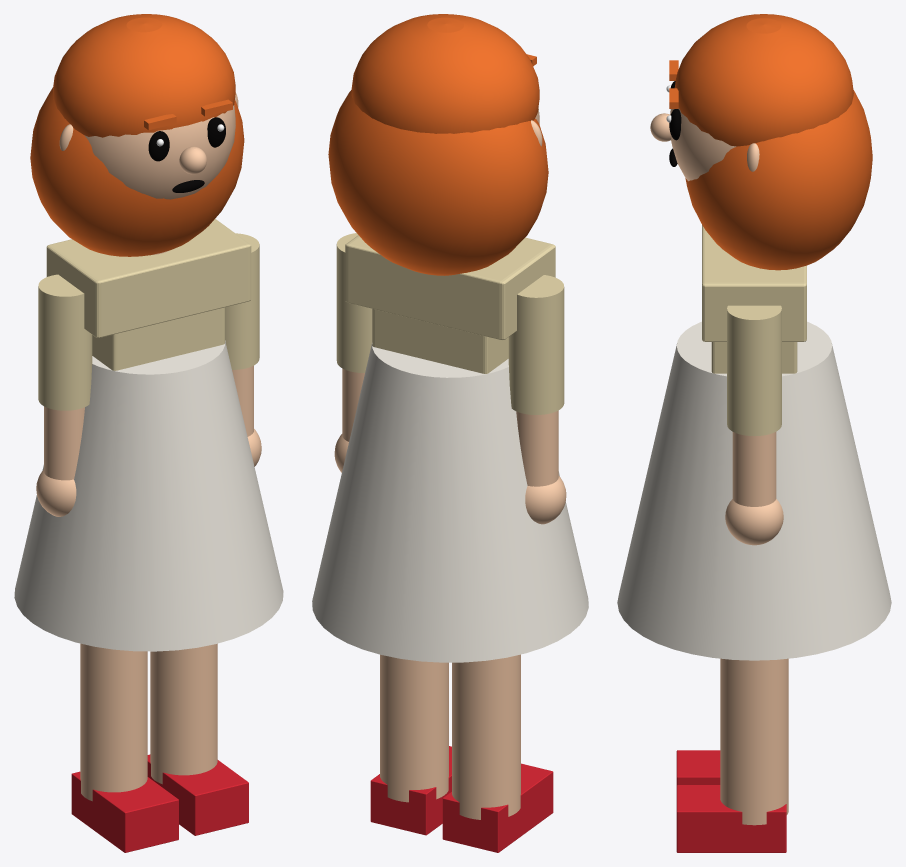
The model's file is mae.glb.
3 renders of one model, left to right at view 1: azimuth 30°, elevation 25°; view 2: azimuth 150°, elevation 25°; view 3: azimuth 270°, elevation 25°, orthographic. The views are drawn at different scales.
Parts seen in each view (by area): view 1: Cone, cabelo, cabelo_l, ombros, coxa-1, coxa1, braco_c-1, rosto, sap-1, tronco, sap1, braco_c1 (+4 smaller); view 2: Cone, cabelo_l, cabelo, ombros, coxa-1, coxa1, braco_c-1, tronco, sap-1, braco_c1, sap1, antebraco-1 (+2 smaller); view 3: Cone, cabelo_l, cabelo, coxa1, braco_c1, ombros, sap1, antebraco1, rosto, mao1, sap-1, tronco.
Boxes of the visible parts, <box> form: Cone: <box>14,340,283,651</box>; cabelo: <box>53,14,235,137</box>; cabelo_l: <box>30,87,244,256</box>; ombros: <box>46,218,251,337</box>; coxa-1: <box>80,643,147,801</box>; coxa1: <box>150,643,217,784</box>; braco_c-1: <box>38,274,92,410</box>; rosto: <box>84,105,235,199</box>; sap-1: <box>71,771,178,852</box>; tronco: <box>92,307,224,370</box>; sap1: <box>147,754,248,835</box>; braco_c1: <box>225,233,259,369</box>; Cone: <box>312,343,588,662</box>; cabelo_l: <box>328,90,548,275</box>; cabelo: <box>351,14,539,133</box>; ombros: <box>345,235,555,340</box>; coxa-1: <box>452,654,520,819</box>; coxa1: <box>380,654,448,802</box>; braco_c-1: <box>508,275,564,414</box>; tronco: <box>372,309,508,373</box>; sap-1: <box>442,763,553,852</box>; braco_c1: <box>336,233,372,372</box>; sap1: <box>370,746,451,835</box>; antebraco-1: <box>516,410,558,486</box>; Cone: <box>617,321,891,660</box>; cabelo_l: <box>685,90,872,270</box>; cabelo: <box>674,14,853,146</box>; coxa1: <box>720,658,788,825</box>; braco_c1: <box>727,305,781,436</box>; ombros: <box>702,225,806,341</box>; sap1: <box>676,785,786,852</box>; antebraco1: <box>732,432,776,506</box>; rosto: <box>670,108,736,181</box>; mao1: <box>725,499,783,545</box>; sap-1: <box>676,750,720,785</box>; tronco: <box>711,342,797,373</box>.
Size of the model in its own units: 0.564 by 1.81 by 0.564.
